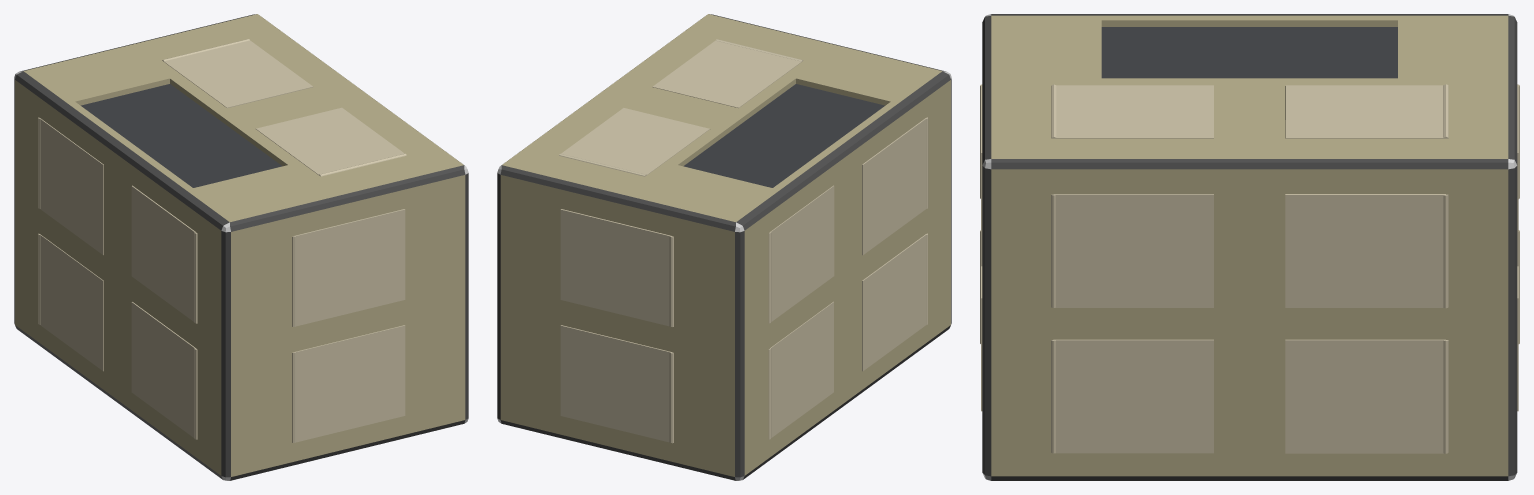
The model's file is BombBox.fbx.
The picture shows the model from 3 angles, left to right: view 1: azimuth 30°, elevation 25°; view 2: azimuth 150°, elevation 25°; view 3: azimuth 270°, elevation 25°; orthographic projection. The views are drawn at different scales.
Visible parts, largest first — view 1: BombBox, CoverLeftT, CoverLeftB, CoverBackRT, CoverBackRB, CoverBackLT, CoverBackLB, CoverTopR, CoverTopL; view 2: BombBox, CoverRightT, CoverRightB, CoverBackRT, CoverBackLT, CoverBackRB, CoverBackLB, CoverTopL, CoverTopR; view 3: BombBoxFront, BombBox, CoverFrontRB, CoverFrontLB, CoverFrontRT, CoverFrontLT, CoverTopR, CoverTopL.
Part boxes in pixels (bbox=[...]): BombBox: bbox=[14, 14, 468, 480]; CoverLeftT: bbox=[292, 209, 405, 326]; CoverLeftB: bbox=[292, 325, 405, 442]; CoverBackRT: bbox=[131, 185, 197, 323]; CoverBackRB: bbox=[131, 302, 197, 439]; CoverBackLT: bbox=[38, 117, 103, 255]; CoverBackLB: bbox=[38, 233, 103, 371]; CoverTopR: bbox=[162, 39, 312, 108]; CoverTopL: bbox=[256, 107, 406, 176]; BombBox: bbox=[497, 14, 951, 480]; CoverRightT: bbox=[560, 209, 673, 326]; CoverRightB: bbox=[560, 325, 673, 443]; CoverBackRT: bbox=[862, 117, 928, 255]; CoverBackLT: bbox=[768, 185, 834, 323]; CoverBackRB: bbox=[862, 233, 927, 371]; CoverBackLB: bbox=[768, 301, 833, 439]; CoverTopL: bbox=[652, 39, 803, 108]; CoverTopR: bbox=[559, 108, 709, 176]; BombBoxFront: bbox=[991, 169, 1508, 476]; BombBox: bbox=[982, 14, 1517, 480]; CoverFrontRB: bbox=[1285, 339, 1448, 453]; CoverFrontLB: bbox=[1051, 339, 1213, 453]; CoverFrontRT: bbox=[1285, 194, 1448, 308]; CoverFrontLT: bbox=[1051, 194, 1213, 307]; CoverTopR: bbox=[1286, 84, 1448, 138]; CoverTopL: bbox=[1051, 84, 1213, 138].
Size of the model in its own units: 203 by 201 by 303.
